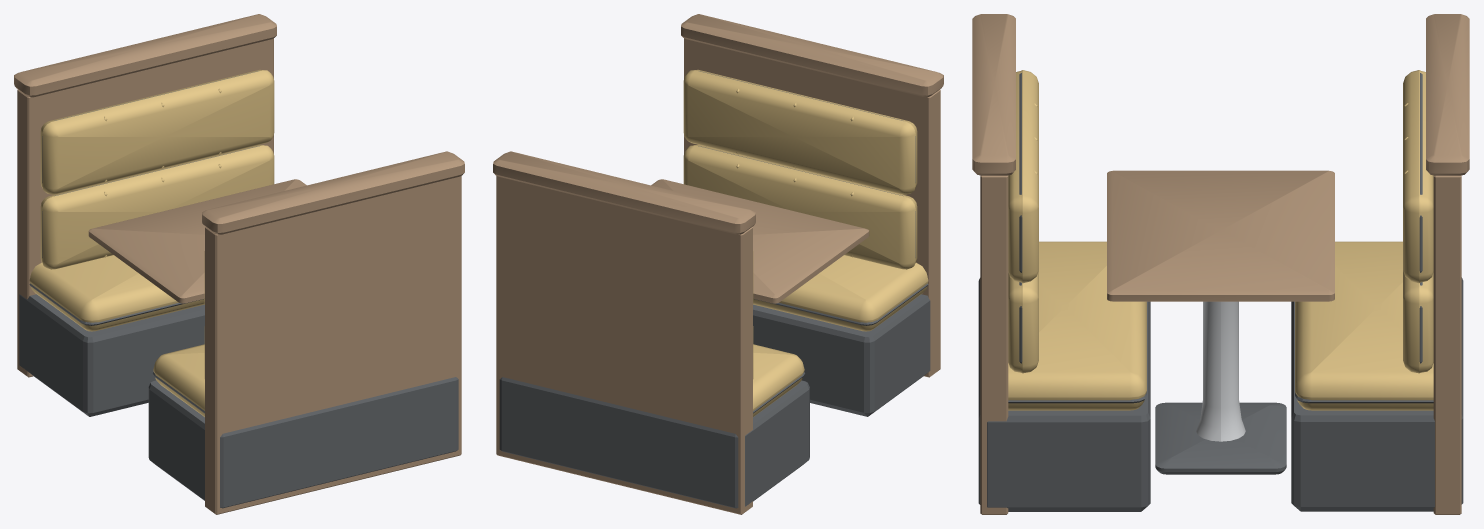
Rendered from restaurant-kitchen-and-dining-booth-2-cover-accent-5fa7aeaf.glb.
3 views of the same model, side by side, from view 1: azimuth 30°, elevation 25°; view 2: azimuth 150°, elevation 25°; view 3: azimuth 270°, elevation 25° (orthographic). The views are drawn at different scales.
Visible parts, largest first — view 1: booth-2-cover-accent; view 2: booth-2-cover-accent; view 3: booth-2-cover-accent.
Part boxes in pixels (x1=…): booth-2-cover-accent: x1=14, y1=14, x2=464, y2=514; booth-2-cover-accent: x1=493, y1=14, x2=943, y2=514; booth-2-cover-accent: x1=972, y1=14, x2=1469, y2=514.
Size of the model in its own units: 1.12 by 1.26 by 1.59.
